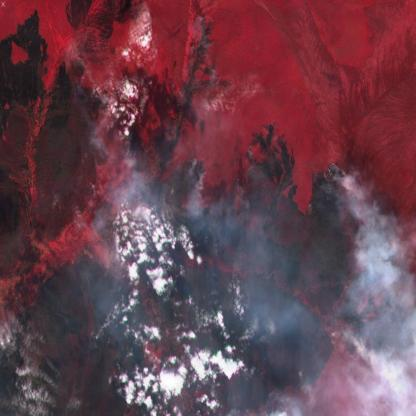fire: (77, 11, 416, 416)
